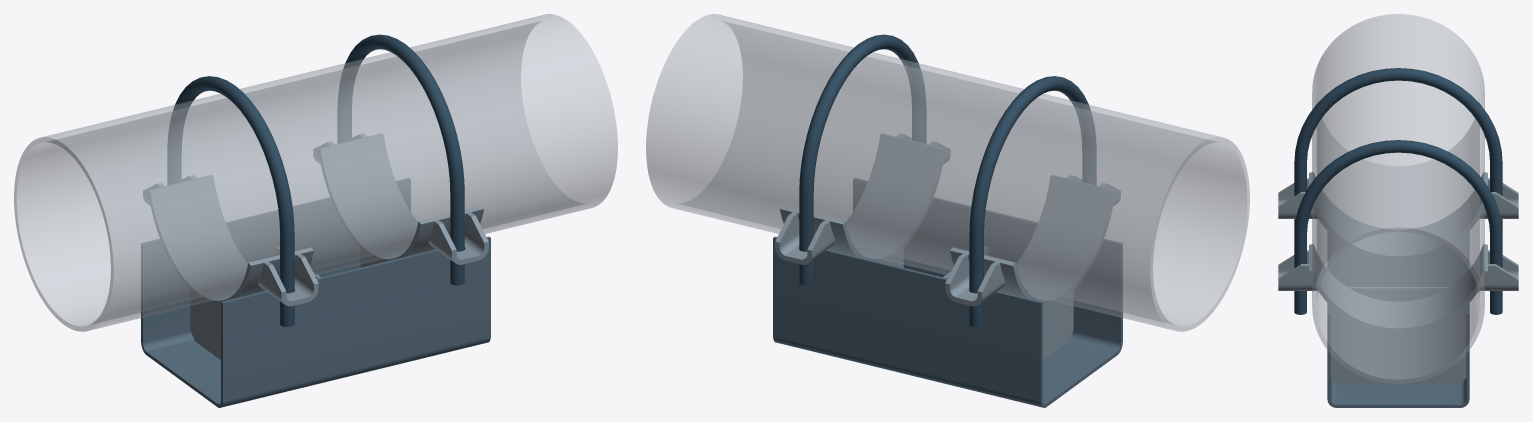
The model's file is TS-734.00.00.01-opora-dn219-L340.glb.
3 views of the same model, side by side, from view 1: azimuth 30°, elevation 25°; view 2: azimuth 150°, elevation 25°; view 3: azimuth 270°, elevation 25° (orthographic). The views are drawn at different scales.
Parts seen in each view (by area): view 1: truba, skoba_0, podushka_4, podushka_5, homut_0, homut_1, ushko_9, ushko_7, rebro4_1; view 2: truba, skoba_0, podushka_4, podushka_5, homut_0, homut_1, ushko_8, ushko_6, rebro4_1; view 3: truba, rebro4_2, podushka_5, podushka_4, homut_1, homut_0, rebro4_1, skoba_0, rebro5_3, ushko_8, ushko_9, ushko_6 (+1 smaller).
Part boxes in pixels (x1,y1,x2,y2): truba: (14, 14, 617, 331); skoba_0: (141, 178, 490, 407); podushka_4: (148, 175, 313, 306); podushka_5: (318, 134, 483, 262); homut_0: (167, 76, 294, 326); homut_1: (337, 34, 464, 285); ushko_9: (428, 212, 488, 264); ushko_7: (258, 254, 318, 306); rebro4_1: (190, 291, 220, 359); truba: (646, 14, 1249, 331); skoba_0: (773, 178, 1122, 407); podushka_4: (950, 175, 1115, 306); podushka_5: (780, 134, 945, 262); homut_0: (969, 76, 1096, 326); homut_1: (799, 34, 926, 285); ushko_8: (775, 212, 835, 264); ushko_6: (945, 254, 1005, 306); rebro4_1: (1043, 291, 1073, 359); truba: (1312, 14, 1484, 383); rebro4_2: (1330, 306, 1466, 384); podushka_5: (1309, 244, 1487, 332); podushka_4: (1309, 172, 1487, 260); homut_1: (1294, 140, 1502, 314); homut_0: (1294, 68, 1502, 232); rebro4_1: (1330, 235, 1466, 286); skoba_0: (1327, 231, 1469, 407); rebro5_3: (1348, 287, 1448, 301); ushko_8: (1479, 250, 1518, 290); ushko_9: (1278, 250, 1317, 290); ushko_6: (1479, 178, 1518, 218).
Bounding box in the file's own units: 640 × 345 × 305.
